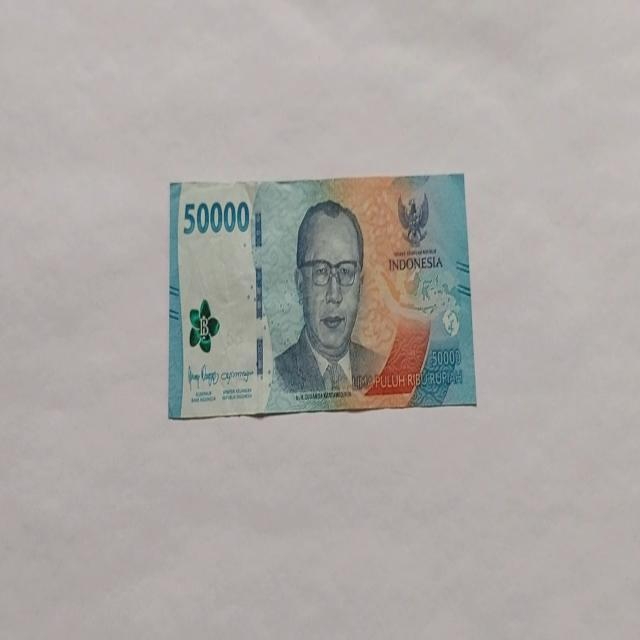lima puluh ribu rupiah: (167, 172, 477, 420), (269, 197, 387, 403)
